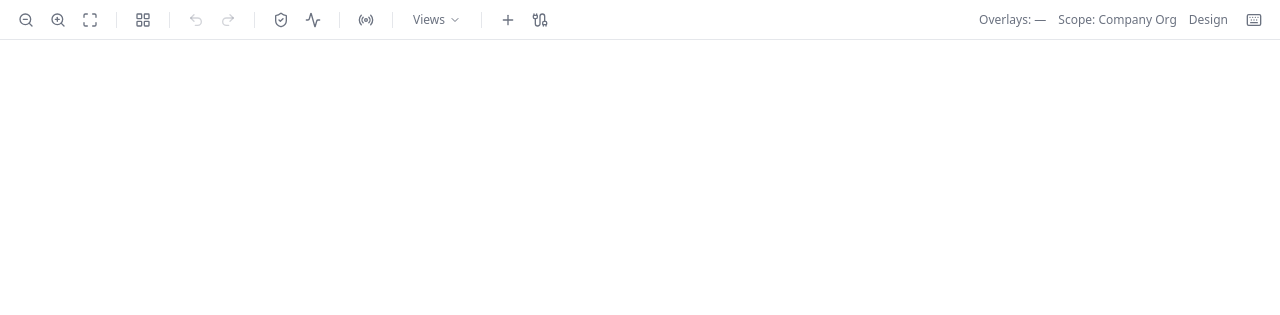
Scenario: CanvasToolbar — Node Palette (CAV-006) › should close palette after selection
Click the button with test id "node-palette-button" at x=508, y=20, box [494,6,522,34]
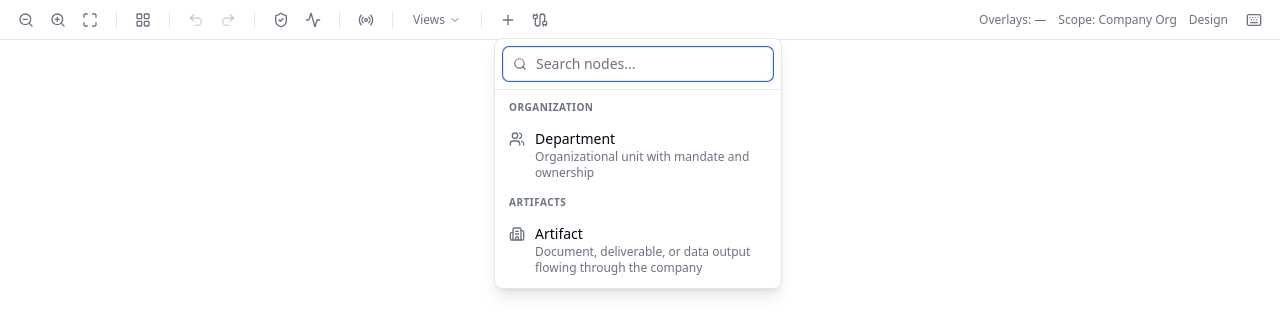
Click the button with test id "node-palette-item-department" at x=638, y=154, box [499,120,777,188]
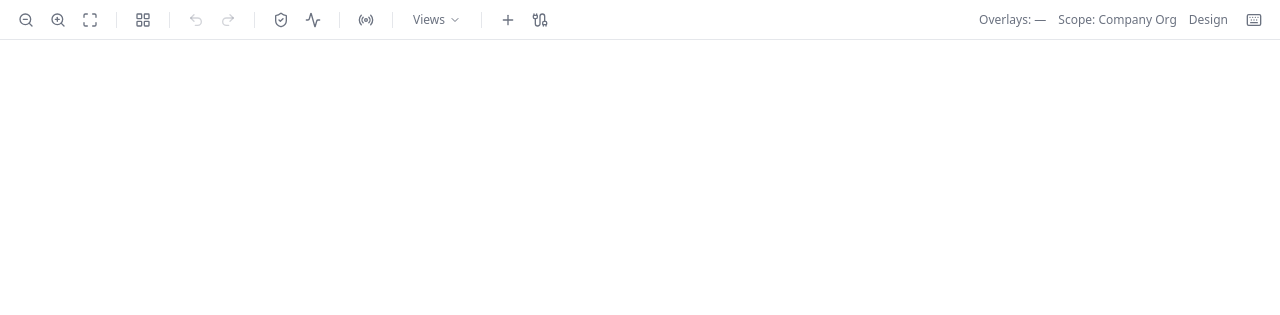
Expected: the element with test id "node-palette" is gone
